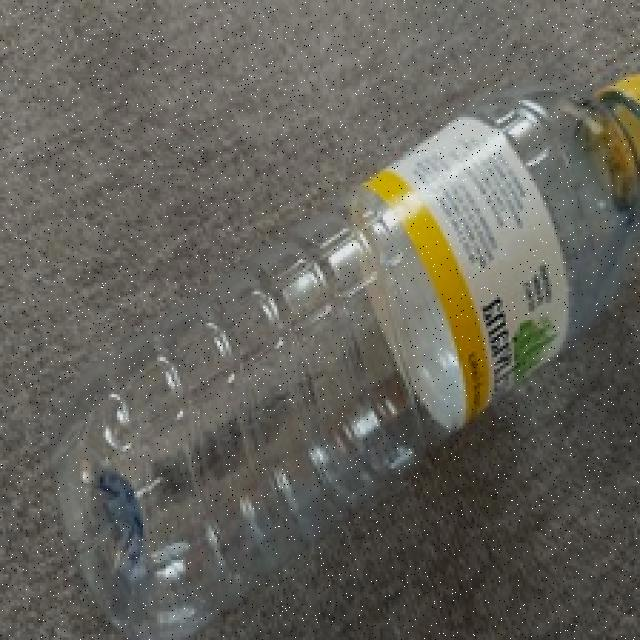bottle: (41, 44, 640, 636)
label: (369, 99, 592, 452)
